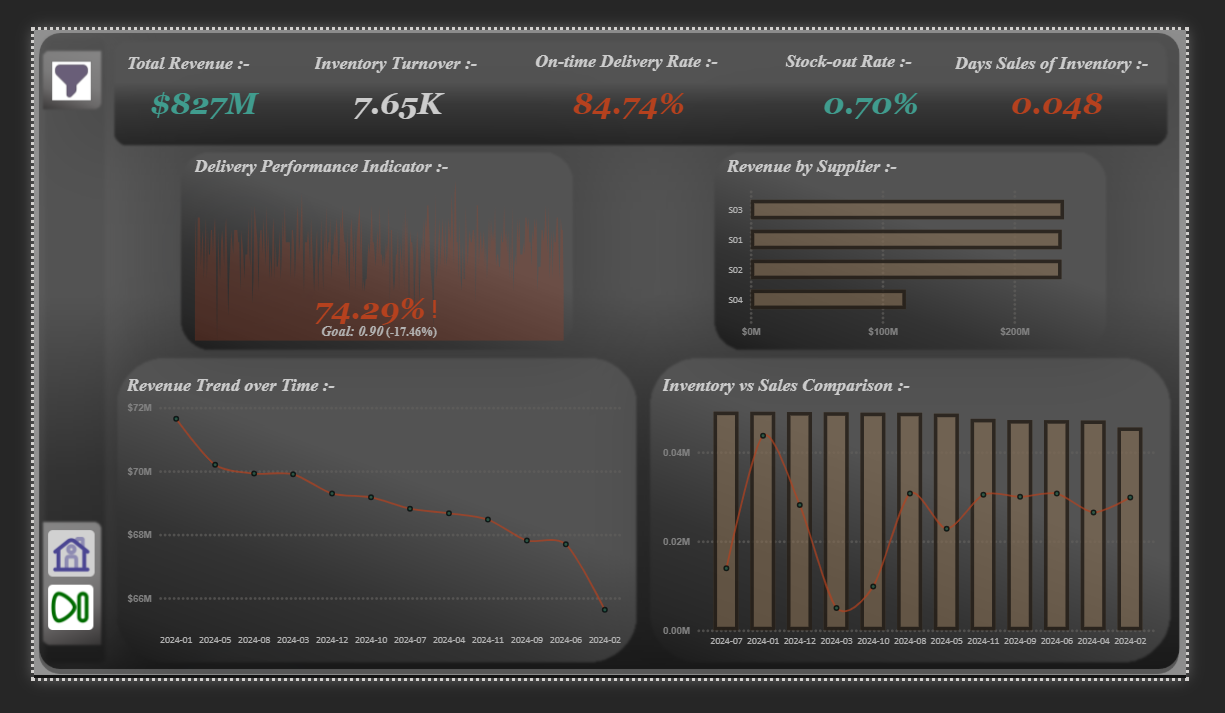

Layout of this report page (visuals, bound fields, positions):
{"tool":"powerbi","page":{"name":"Executive Summary :-","canvas":[1280,720],"ordinal":1},"visuals":[{"type":"card","title":"On-time Delivery Rate :-","fields":{"Values":["MyMeasures.On-Time Delivery %"]},"box":[552.4,23.3,217,91.1],"z":0,"group":"g2"},{"type":"group","id":"g1","title":"All Visuals ","box":[98.4,140.8,1154.3,553.8],"z":0},{"type":"actionButton","title":"Home Button ","box":[11.1,551.7,59.7,59.7],"z":0,"group":"g3"},{"type":"group","id":"g2","title":"All KPI","box":[98.5,23.3,1154.6,91.1],"z":1000},{"type":"card","title":"Stock-out Rate :-","fields":{"Values":["MyMeasures.Stockout Rate"]},"box":[830.7,23.3,198.8,91.1],"z":1000,"group":"g2"},{"type":"lineChart","title":"Revenue Trend over Time :-","fields":{"Y":["MyMeasures.Total Revenue"],"Category":["Dim_Date.YearMonth"]},"box":[98.4,384.3,559.9,309.8],"z":1000,"group":"g1"},{"type":"actionButton","title":"Next Page Button ","box":[11.7,611.7,58.3,60],"z":1000,"group":"g3"},{"type":"card","title":"Days Sales of Inventory :-","fields":{"Values":["MyMeasures.DSI"]},"box":[1017.8,25,235.2,89.4],"z":2000,"group":"g2"},{"type":"actionButton","title":"Filter Button ","box":[11.7,26.7,60,60],"z":2000,"group":"g3"},{"type":"lineStackedColumnComboChart","title":"Inventory vs Sales Comparison :-","fields":{"Category":["Dim_Date.YearMonth"],"Y2":["Dim_Date.Average Inventory Value"],"Y":["MyMeasures.Total Units Sold"]},"box":[692.7,384.2,560,310.4],"z":2000,"group":"g1"},{"type":"card","title":"Inventory Turnover :-","fields":{"Values":["MyMeasures.Inventory Turnover"]},"box":[307.2,25,193.8,89.4],"z":3000,"group":"g2"},{"type":"group","id":"g3","title":"Navigation","box":[11.1,26.7,60.6,645],"z":3000},{"type":"kpi","title":"Delivery Performance Indicator :-","fields":{"TrendLine":["Dim_Date.Date"],"Indicator":["MyMeasures.On-Time Delivery %"],"Goal":["Dim_Date.On-Time Target"]},"box":[172.6,140.8,420,210],"z":3000,"group":"g1"},{"type":"card","title":"Total Revenue :-","fields":{"Values":["MyMeasures.Total Revenue"]},"box":[98.5,25,180,89.4],"z":4000,"group":"g2"},{"type":"barChart","title":"Revenue by Supplier :-","fields":{"Y":["MyMeasures.Total Revenue"],"Category":["Dim_Supplier.SupplierID"]},"box":[764.9,140.8,419.2,209.6],"z":4000,"group":"g1"}]}

Visuals, with their boxes on the page's 1280x720 design canvas (x1, y1, x2, y2). These are canvas units, not pixel positions in the 1225x713 screenshot, which may show the page scaled, cropped or inside an application window:
"On-time Delivery Rate :-" card: 552 23 769 114
"All Visuals " group: 98 141 1253 695
"Home Button " actionButton: 11 552 71 611
"All KPI" group: 98 23 1253 114
"Stock-out Rate :-" card: 831 23 1030 114
"Revenue Trend over Time :-" lineChart: 98 384 658 694
"Next Page Button " actionButton: 12 612 70 672
"Days Sales of Inventory :-" card: 1018 25 1253 114
"Filter Button " actionButton: 12 27 72 87
"Inventory vs Sales Comparison :-" lineStackedColumnComboChart: 693 384 1253 695
"Inventory Turnover :-" card: 307 25 501 114
"Navigation" group: 11 27 72 672
"Delivery Performance Indicator :-" kpi: 173 141 593 351
"Total Revenue :-" card: 98 25 278 114
"Revenue by Supplier :-" barChart: 765 141 1184 350
